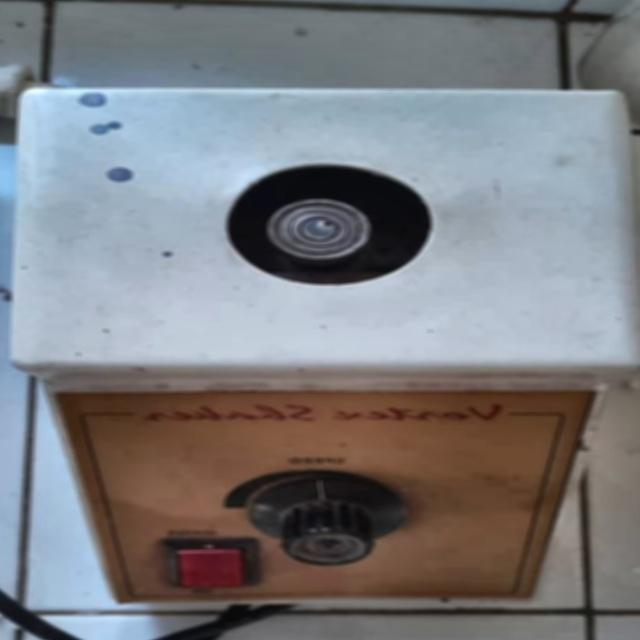Vortex: (0, 68, 640, 622)
